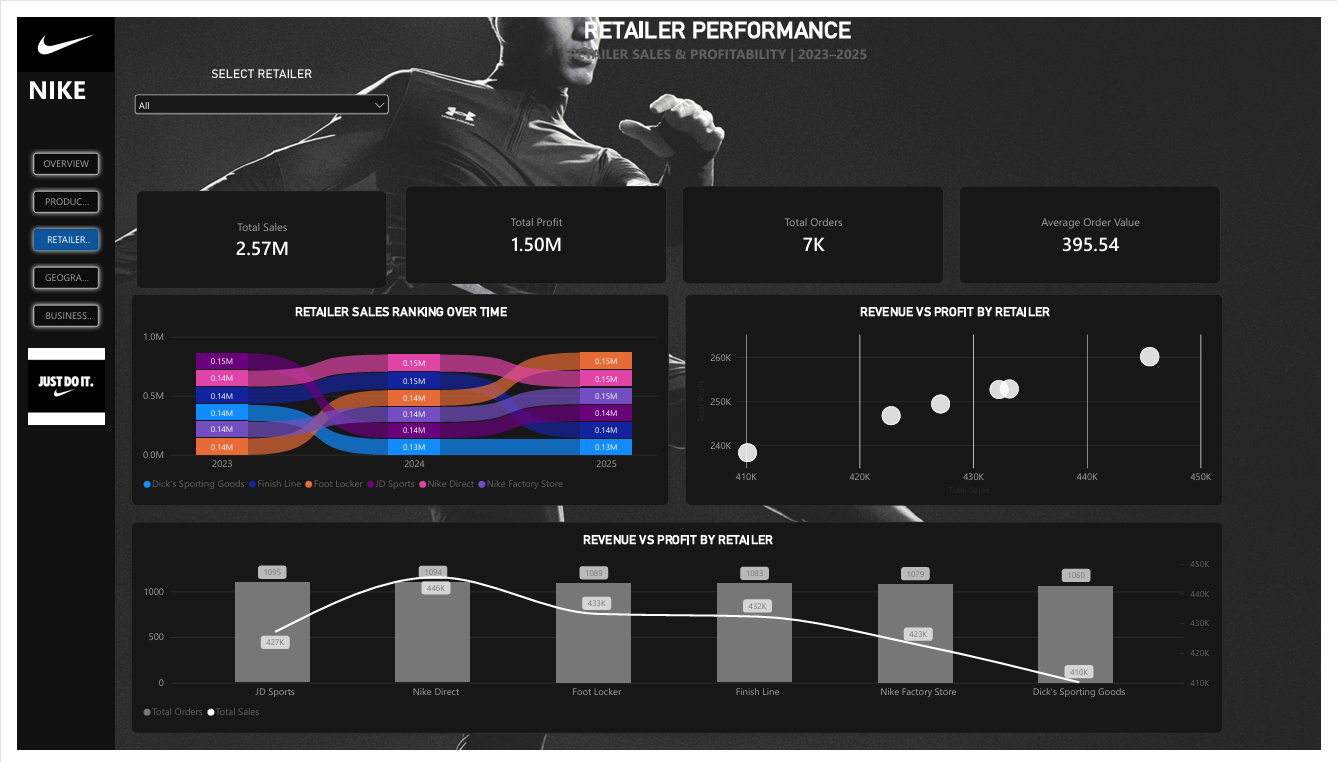

What the dashboard file says about the page in this screenshot:
{"tool":"powerbi","page":{"name":"RETAILER ANALYSIS","canvas":[1920,1080],"ordinal":2},"visuals":[{"type":"group","id":"g1","title":"Group 1","box":[0,0,144,1080],"z":0},{"type":"image","box":[0,0,144,80],"z":1000},{"type":"textbox","title":"RETAILER PERFORMANCE","box":[144,0,1776,72],"z":2000},{"type":"ribbonChart","title":"RETAILER SALES RANKING OVER TIME","fields":{"Category":["DimDate.Year"],"Series":["DimRetailer.RetailerName"],"Y":["FactOrders.Total Sales"]},"box":[168,408,792,312],"z":3000},{"type":"cardVisual","fields":{"Data":["FactOrders.Total Sales"]},"box":[176,256,368,144],"z":4000},{"type":"cardVisual","fields":{"Data":["FactOrders.Total Profit"]},"box":[572,248.5,384,144],"z":5000},{"type":"cardVisual","fields":{"Data":["FactOrders.Total Orders"]},"box":[980,248.5,384,144],"z":6000},{"type":"cardVisual","fields":{"Data":["FactOrders.Average Order Value"]},"box":[1388,248.5,384,144],"z":7000},{"type":"slicer","title":"SELECT RETAILER","fields":{"Values":["DimRetailer.RetailerName"]},"box":[168,72,384,120],"z":8000},{"type":"scatterChart","title":"REVENUE VS PROFIT BY RETAILER","fields":{"Category":["DimRetailer.RetailerName"],"Size":["FactOrders.Total Units Sold"],"X":["FactOrders.Total Sales"],"Y":["FactOrders.Total Profit"]},"box":[984,408,792,312],"z":9000},{"type":"shape","box":[0,0,144,1080],"z":10000,"group":"g1"},{"type":"lineClusteredColumnComboChart","title":"REVENUE VS PROFIT BY RETAILER","fields":{"Category":["DimRetailer.RetailerName"],"Y":["FactOrders.Total Orders"],"Y2":["FactOrders.Total Sales"]},"box":[168,744,1608,312],"z":10000},{"type":"textbox","box":[16,80,112,64],"z":11000,"group":"g1"},{"type":"pageNavigator","box":[16,192,112,272],"z":11000},{"type":"image","box":[16,480,112,128],"z":13000}]}

Visuals, with their boxes in screenshot pixels (x1, y1, x2, y2), scaled from the page's 1920x1080 canvas onto the 1337x762 screenshot:
"Group 1" group: {"left": 0, "top": 0, "right": 100, "bottom": 761}
image: {"left": 0, "top": 0, "right": 100, "bottom": 56}
"RETAILER PERFORMANCE" textbox: {"left": 100, "top": 0, "right": 1336, "bottom": 51}
"RETAILER SALES RANKING OVER TIME" ribbonChart: {"left": 117, "top": 288, "right": 668, "bottom": 508}
cardVisual - FactOrders.Total Sales: {"left": 123, "top": 181, "right": 379, "bottom": 282}
cardVisual - FactOrders.Total Profit: {"left": 398, "top": 175, "right": 666, "bottom": 277}
cardVisual - FactOrders.Total Orders: {"left": 682, "top": 175, "right": 950, "bottom": 277}
cardVisual - FactOrders.Average Order Value: {"left": 967, "top": 175, "right": 1234, "bottom": 277}
"SELECT RETAILER" slicer: {"left": 117, "top": 51, "right": 384, "bottom": 135}
"REVENUE VS PROFIT BY RETAILER" scatterChart: {"left": 685, "top": 288, "right": 1237, "bottom": 508}
shape: {"left": 0, "top": 0, "right": 100, "bottom": 761}
"REVENUE VS PROFIT BY RETAILER" lineClusteredColumnComboChart: {"left": 117, "top": 525, "right": 1237, "bottom": 745}
textbox: {"left": 11, "top": 56, "right": 89, "bottom": 102}
pageNavigator: {"left": 11, "top": 135, "right": 89, "bottom": 327}
image: {"left": 11, "top": 339, "right": 89, "bottom": 429}
